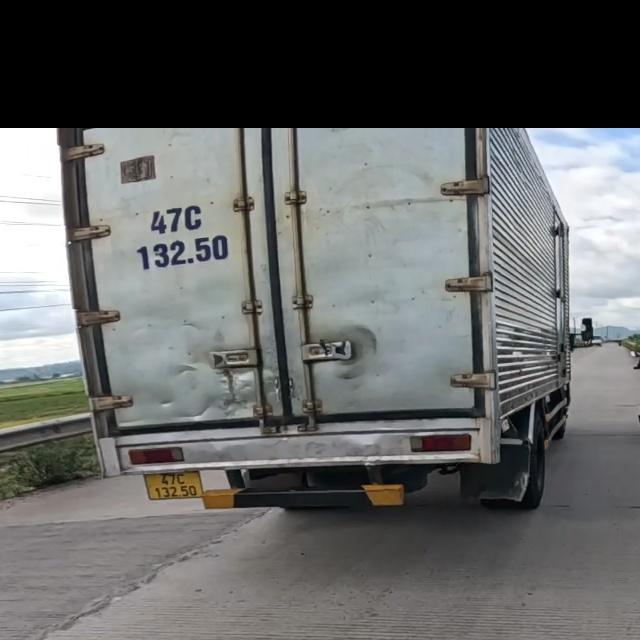license-plate: (144, 471, 205, 500)
